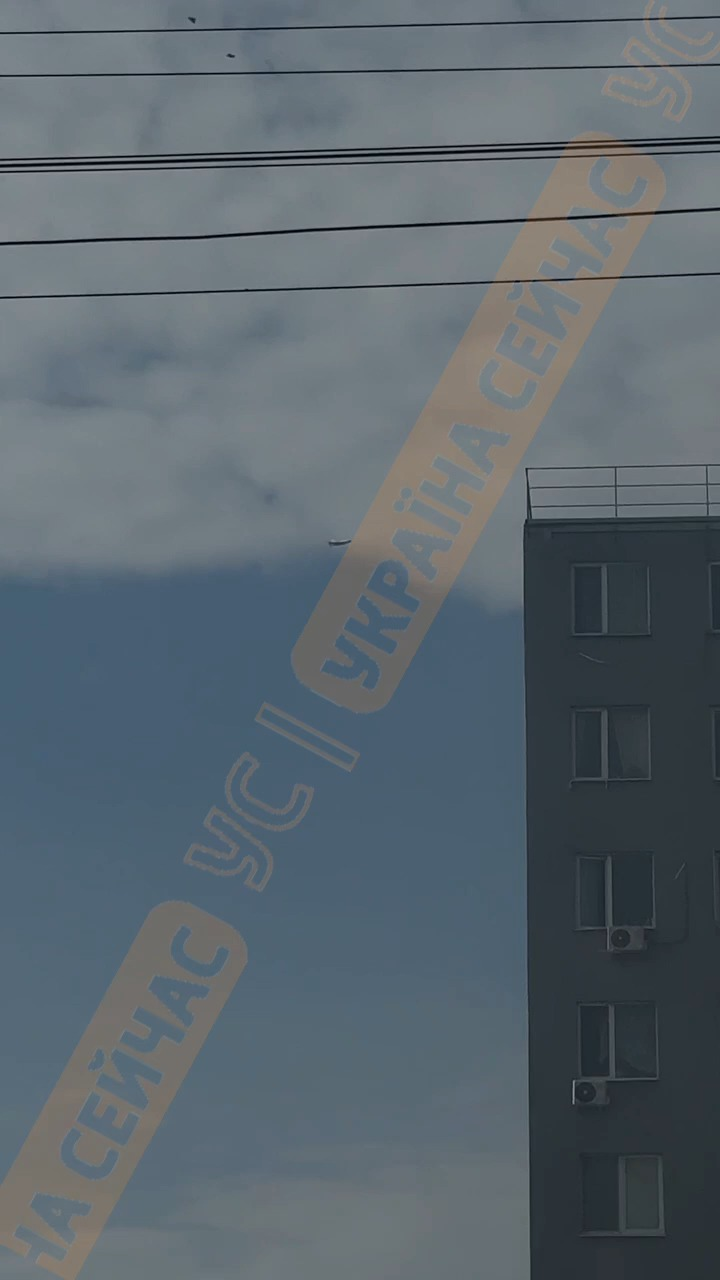shahed: (325, 532, 355, 552)
